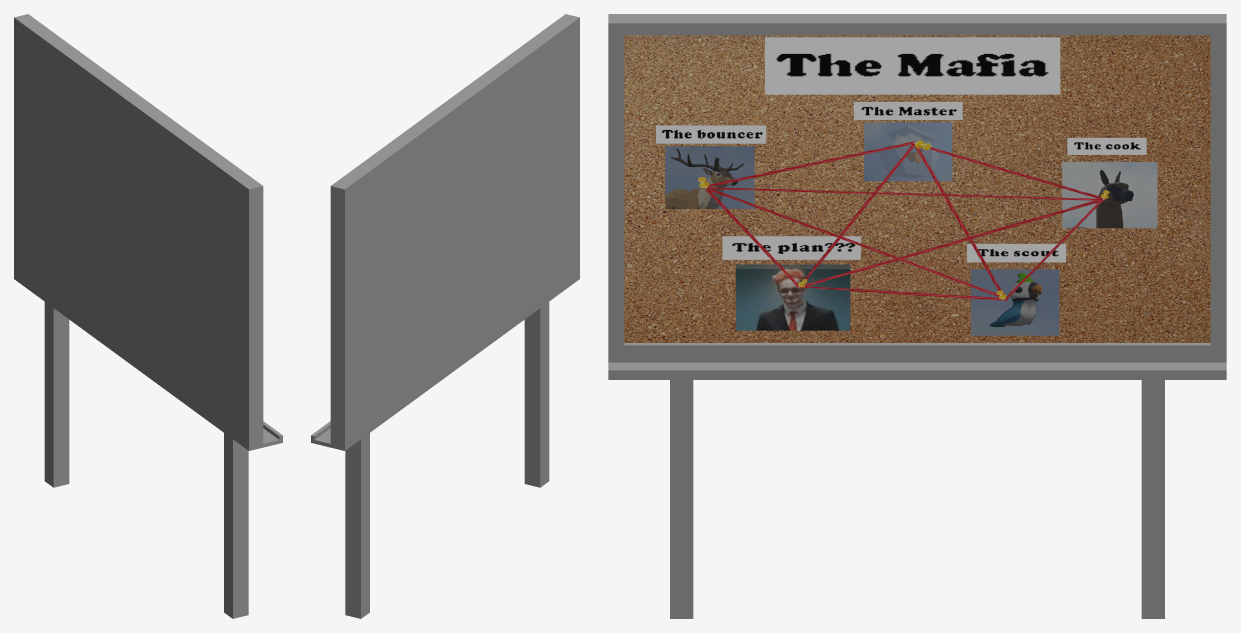
Rendered from board.fbx.
The picture shows the model from 3 angles, left to right: view 1: azimuth 30°, elevation 25°; view 2: azimuth 150°, elevation 25°; view 3: azimuth 270°, elevation 25°; orthographic projection. The views are drawn at different scales.
Parts seen in each view (by area): view 1: model; view 2: model; view 3: model.
Boxes of the visible parts, x1=… form: model: x1=14, y1=14, x2=282, y2=618; model: x1=311, y1=14, x2=579, y2=618; model: x1=608, y1=14, x2=1226, y2=618.
Size of the model in its own units: 0.095 by 1.2 by 1.14.
